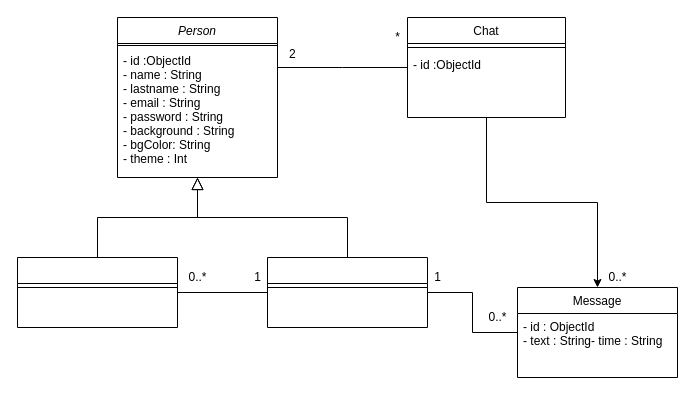
Image size: 695x395. Some labels were removed from this diagram. Here are the shapes that lost their labels. From the top down, the centre of each, then its label:
At (x=97, y=292): "Contact".
At (x=347, y=292): "User".
